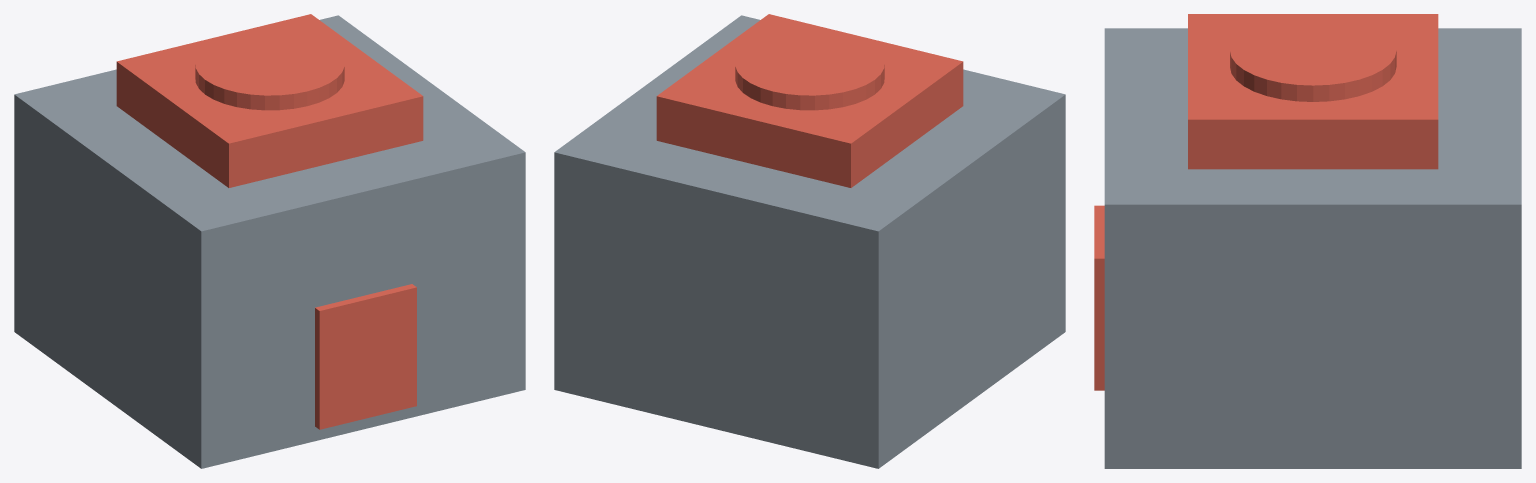
File: SM_Soviet_SU_AATurret_Blockout.fbx
3 views of the same model, side by side, from view 1: azimuth 30°, elevation 25°; view 2: azimuth 150°, elevation 25°; view 3: azimuth 270°, elevation 25° (orthographic). The views are drawn at different scales.
Visible parts, largest first — view 1: MainBuilding, RoofStructure, EntranceGate, Spire; view 2: MainBuilding, RoofStructure, Spire; view 3: MainBuilding, RoofStructure, Spire, EntranceGate.
Boxes of the visible parts, x1,y1,x2,y2 form: MainBuilding: (14,15,525,468); RoofStructure: (116,14,423,187); EntranceGate: (315,284,416,429); Spire: (195,32,344,110); MainBuilding: (554,15,1065,468); RoofStructure: (656,14,963,187); Spire: (735,32,884,110); MainBuilding: (1104,28,1521,468); RoofStructure: (1188,14,1438,169); Spire: (1230,15,1396,101); EntranceGate: (1094,205,1104,390).
Bounding box in the file's own units: 400 × 350 × 410.
